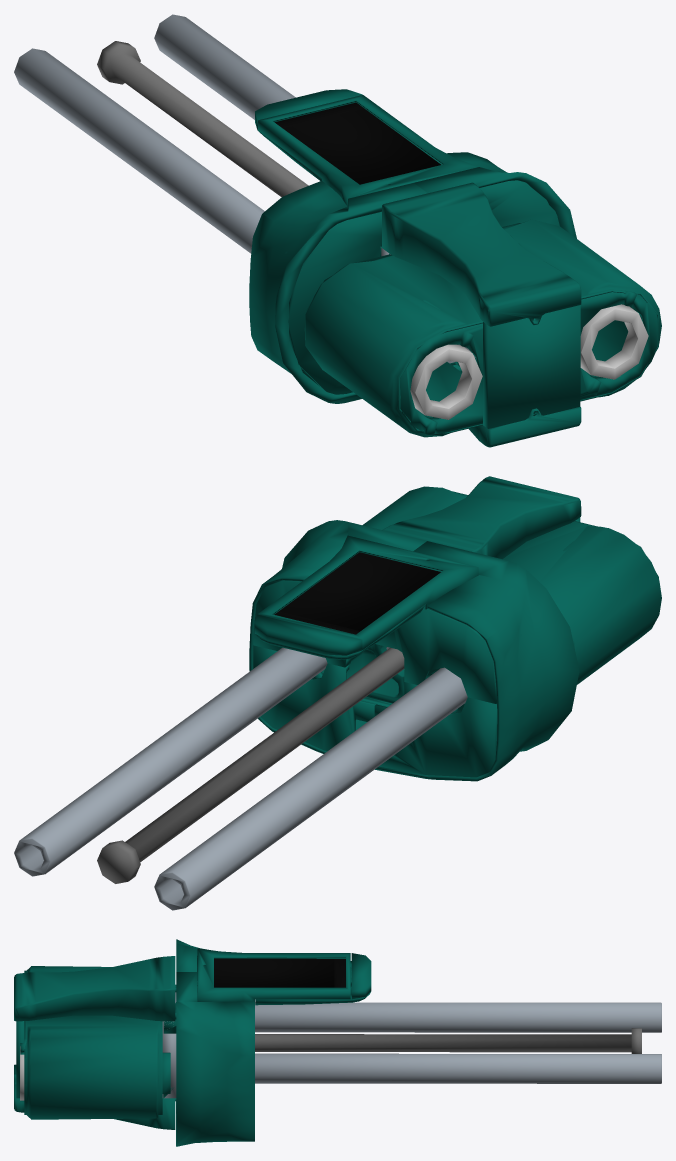
Rendered from torso.obj.
3 views of the same model, one above another, from view 1: azimuth 30°, elevation 25°; view 2: azimuth 150°, elevation 25°; view 3: azimuth 270°, elevation 25° (orthographic). The views are drawn at different scales.
Bounding box in the file's own units: 0.33 × 0.1973 × 0.8151.
